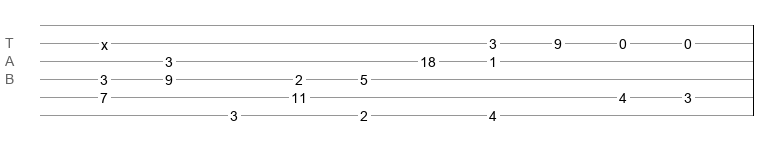0: (619, 36, 627, 46), (684, 36, 692, 46)
1: (489, 54, 497, 64)
11: (291, 90, 307, 100)
18: (420, 54, 436, 64)
2: (295, 72, 303, 82), (360, 108, 368, 118)
3: (100, 72, 108, 82), (165, 54, 173, 64), (230, 108, 238, 118), (489, 36, 497, 46), (684, 90, 692, 100)
4: (489, 108, 497, 118), (619, 90, 627, 100)
5: (360, 72, 368, 82)
7: (100, 90, 108, 100)
9: (165, 72, 173, 82), (554, 36, 562, 46)
x: (101, 37, 108, 45)
